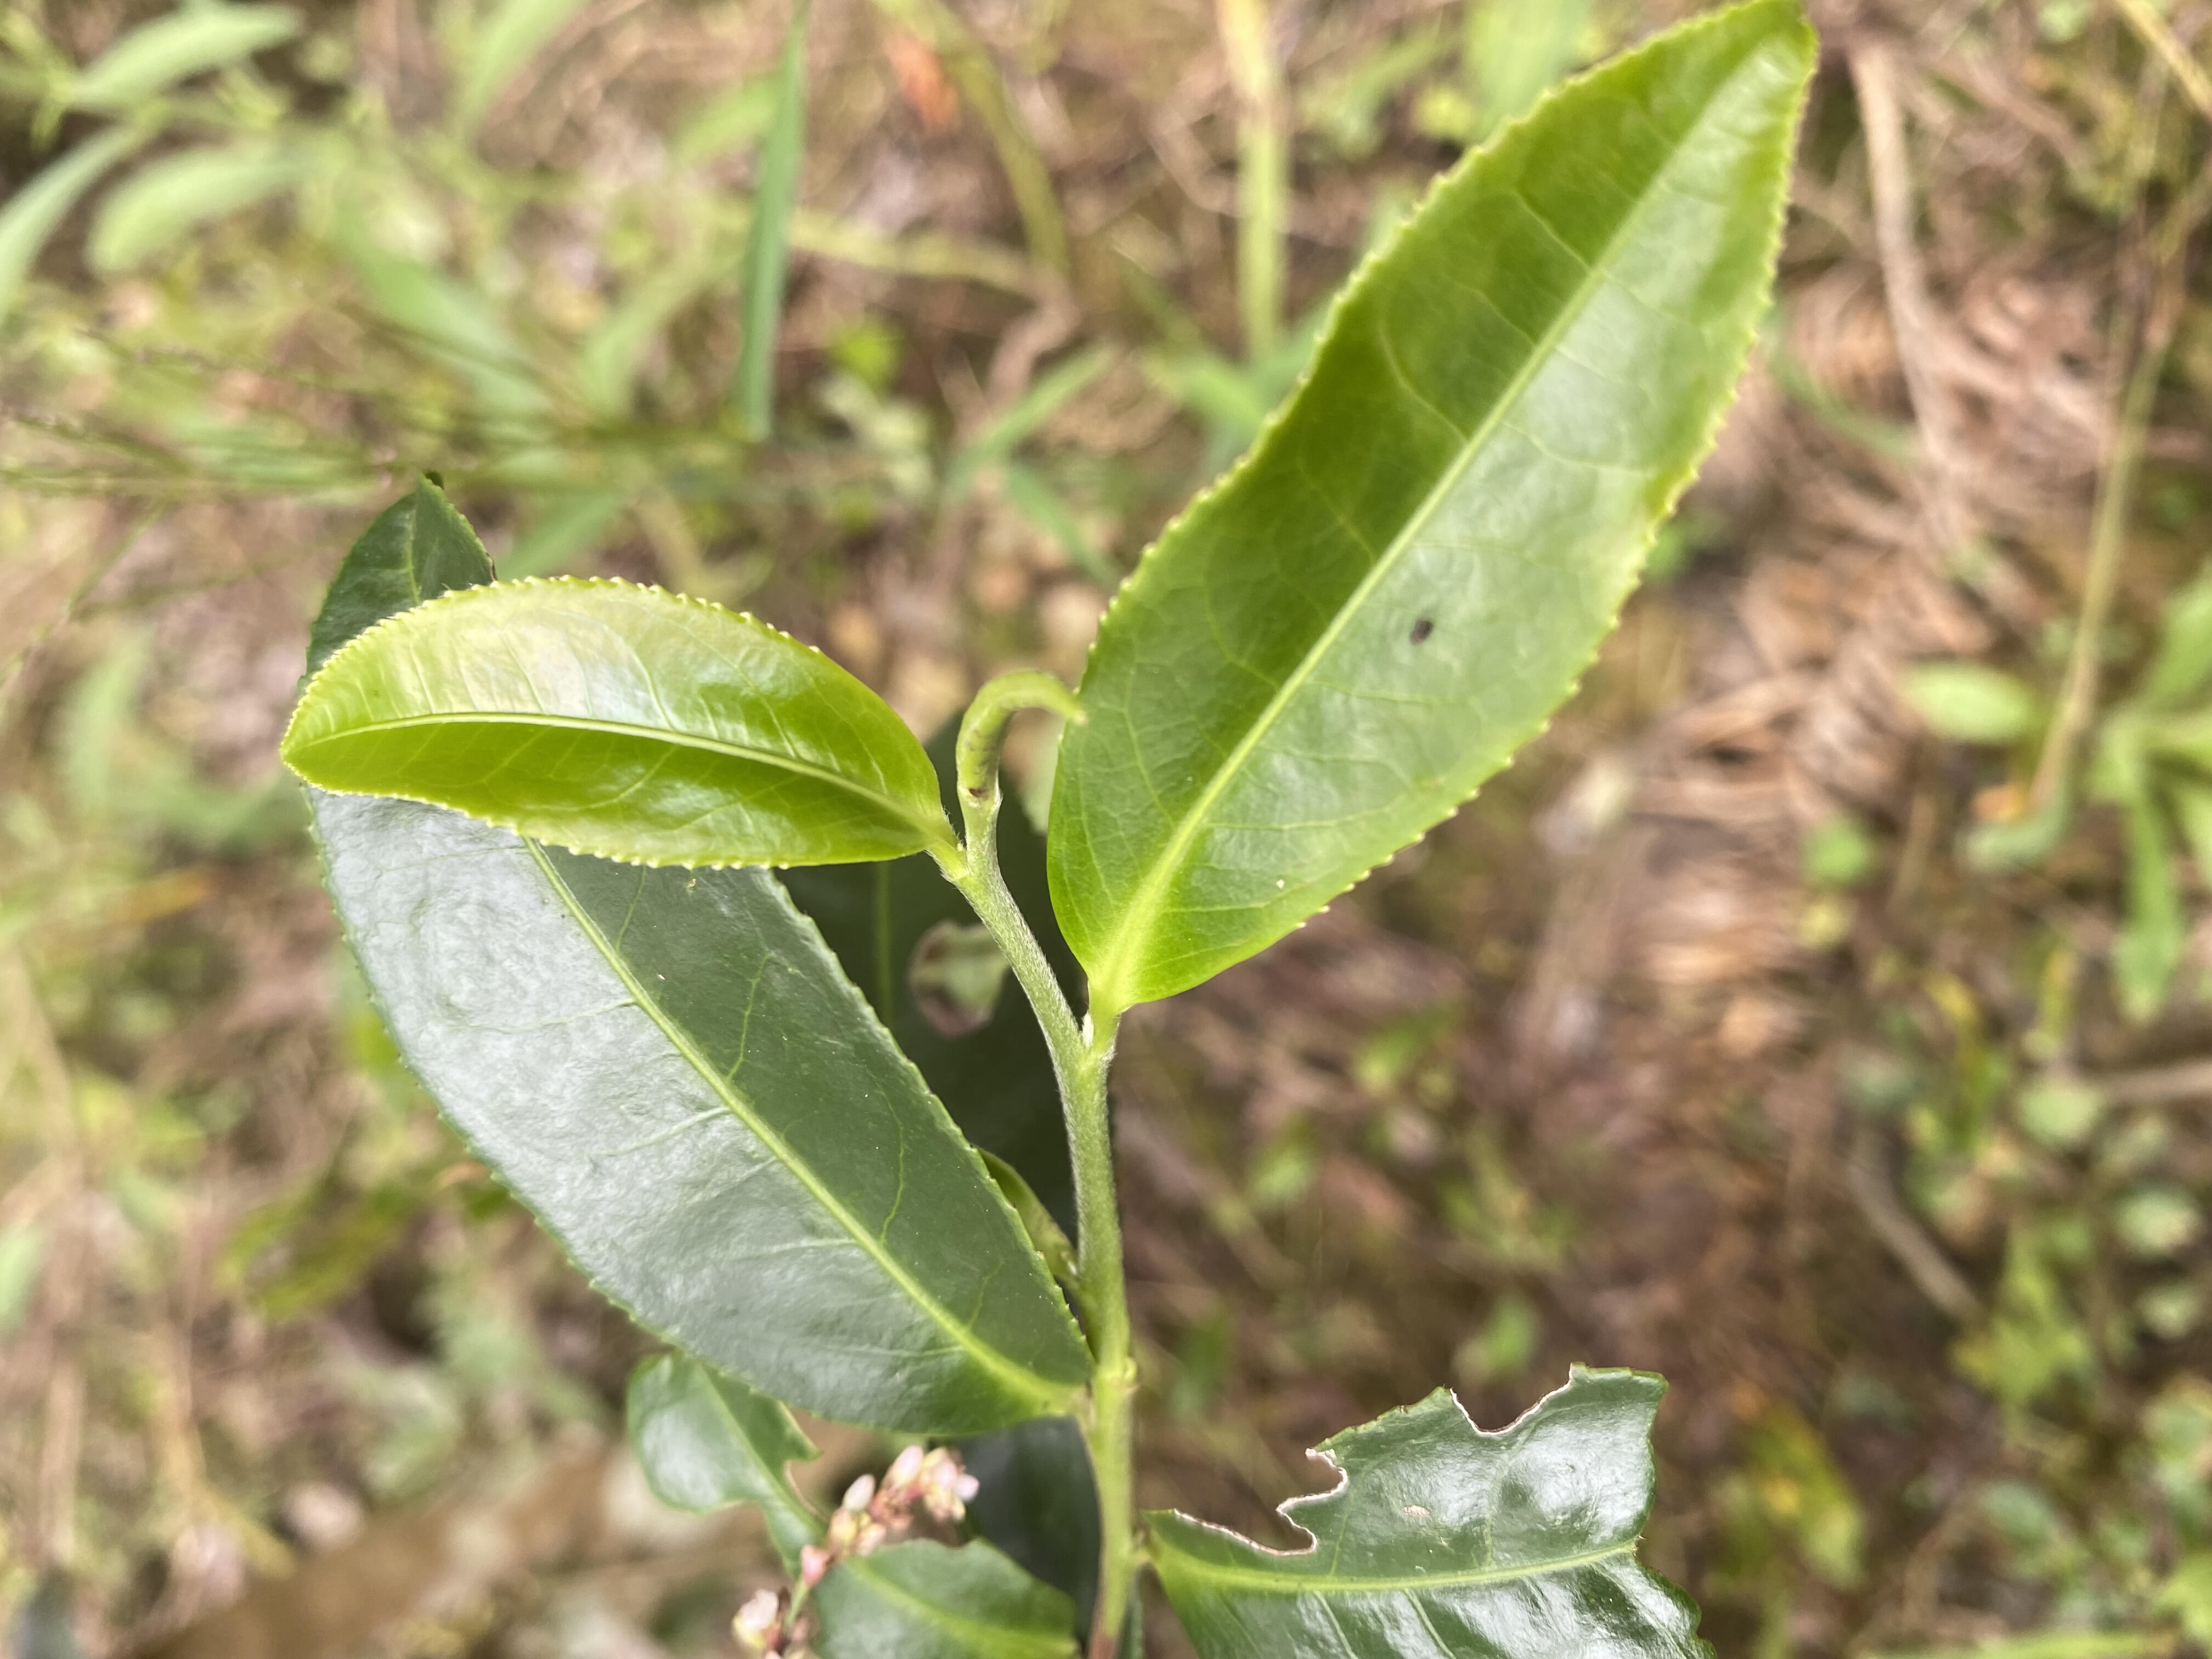chihuo_high: (1148, 1361, 1721, 1657), (622, 1349, 1075, 1656)
healthy: (296, 472, 1090, 1445), (275, 572, 942, 866)
tanju_low: (1043, 2, 1822, 1014)
